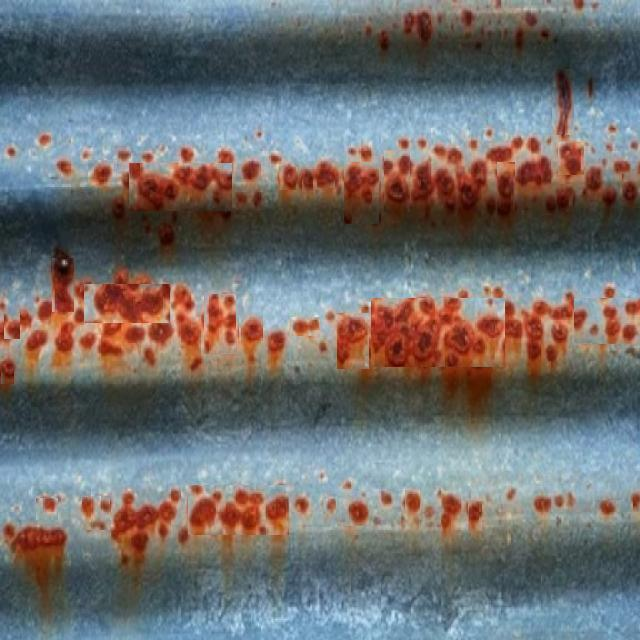Corrosion: (0, 0, 639, 639), (0, 246, 639, 391)
